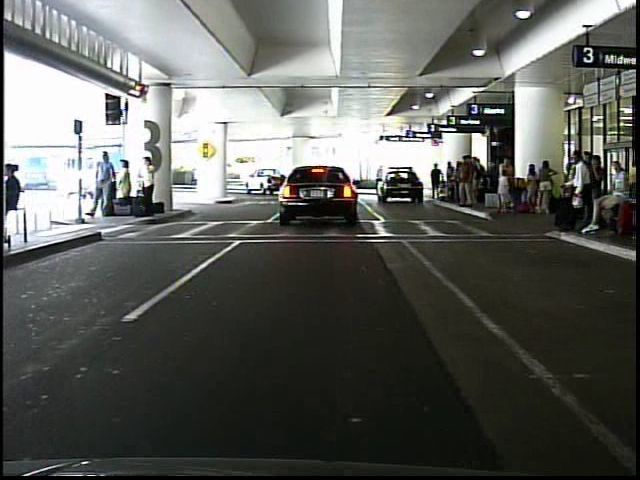person: (89, 148, 120, 222), (140, 152, 158, 218), (117, 157, 136, 212), (430, 162, 444, 201)
